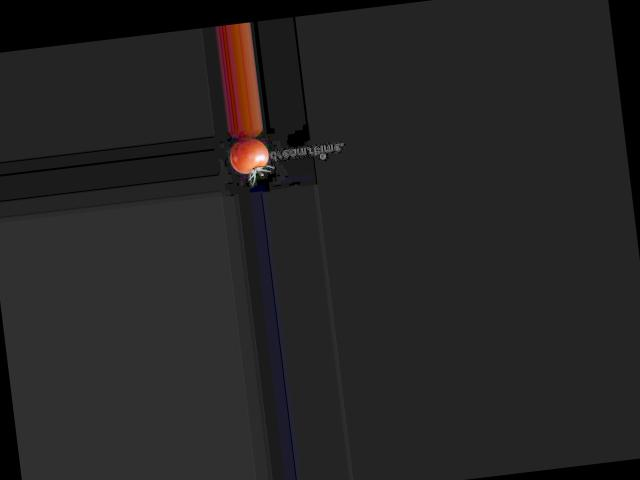tomato: (228, 137, 271, 175)
